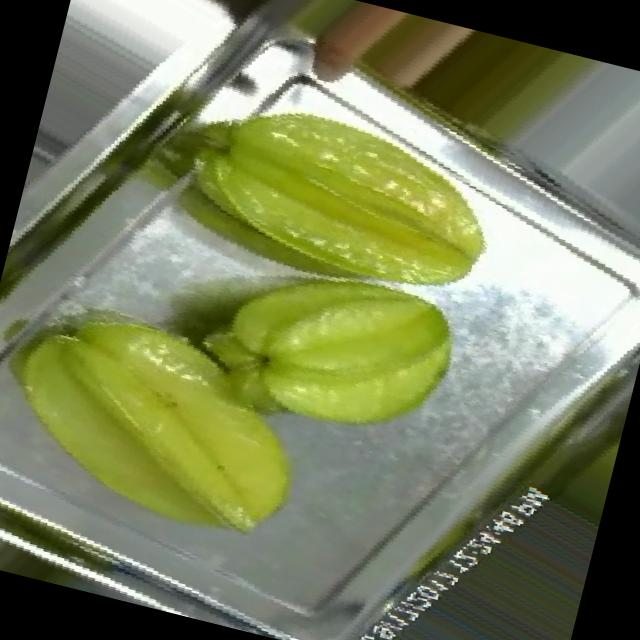fruit: (99, 12, 556, 518), (0, 233, 373, 596)
